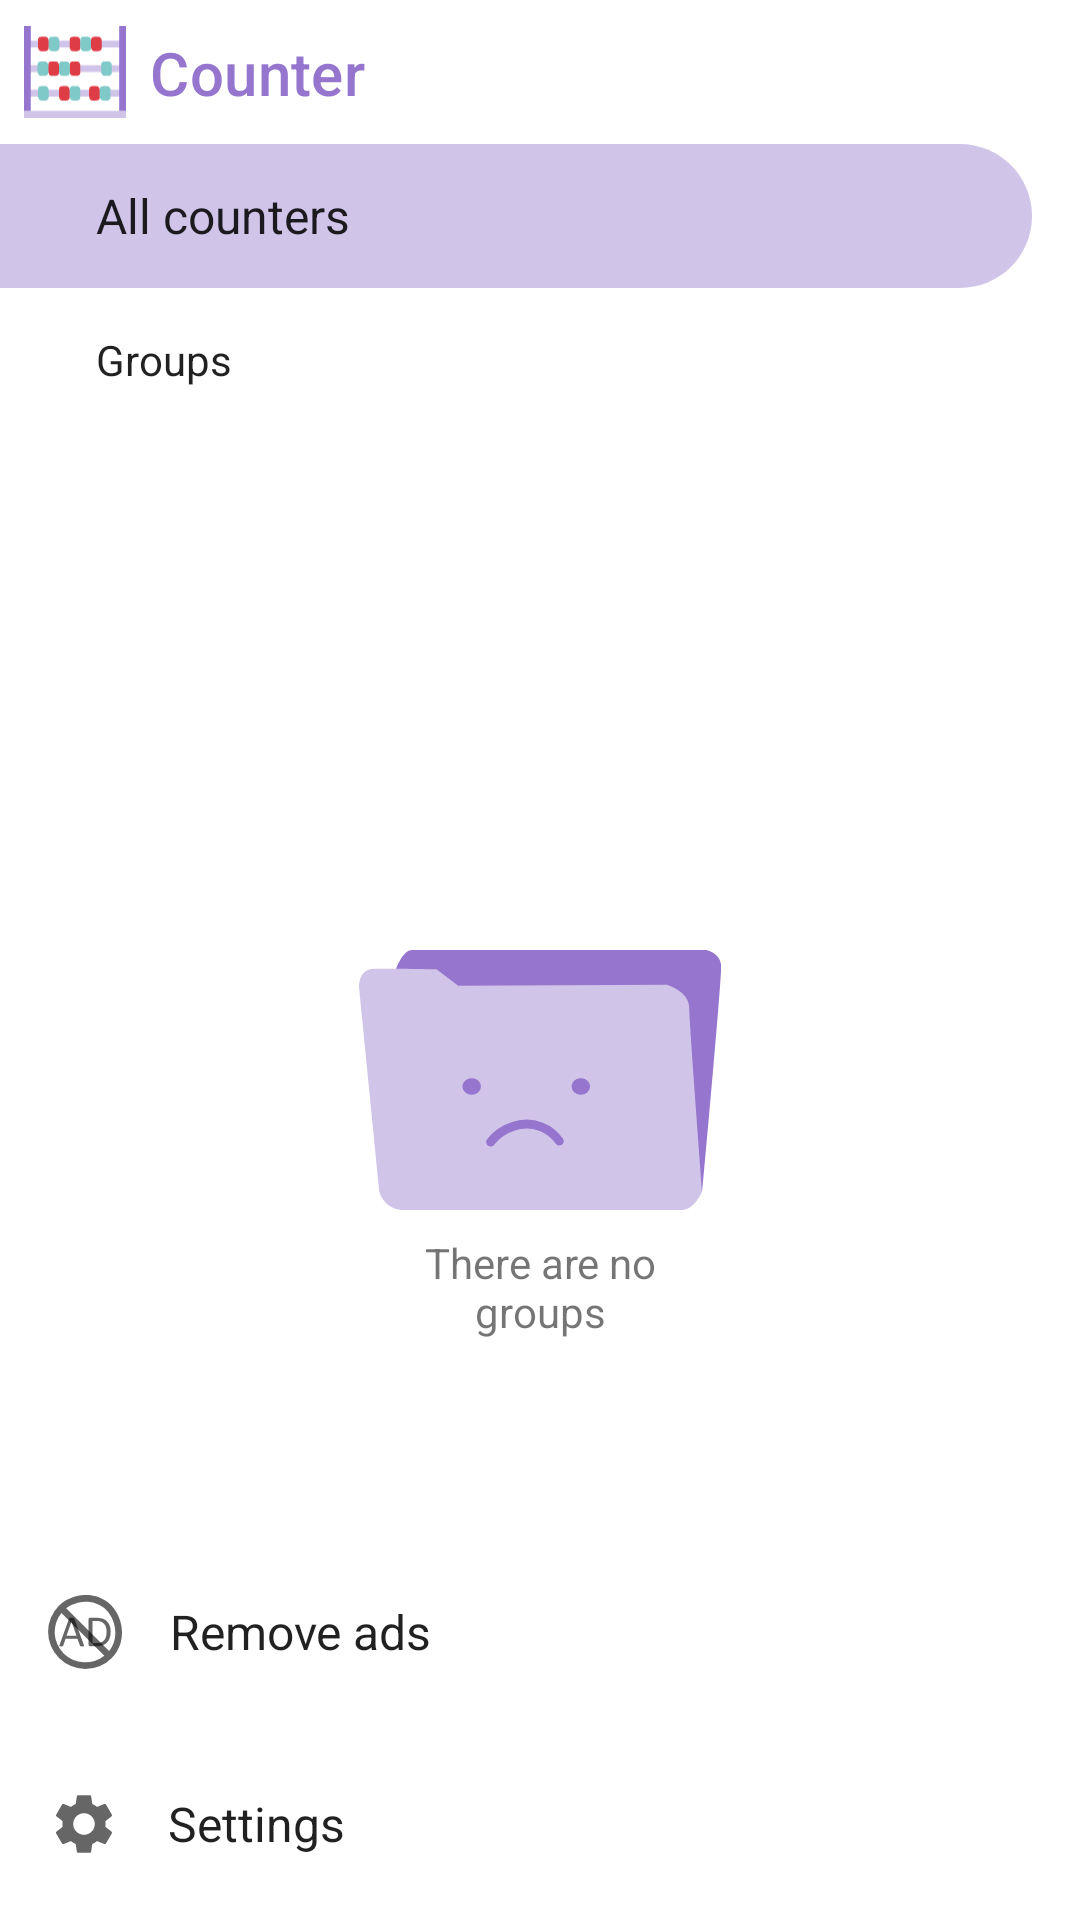

Where to tap for icons on this 1080px×1920px app screen, as (x=x, y=y):
no ads: (x=85, y=1632)
